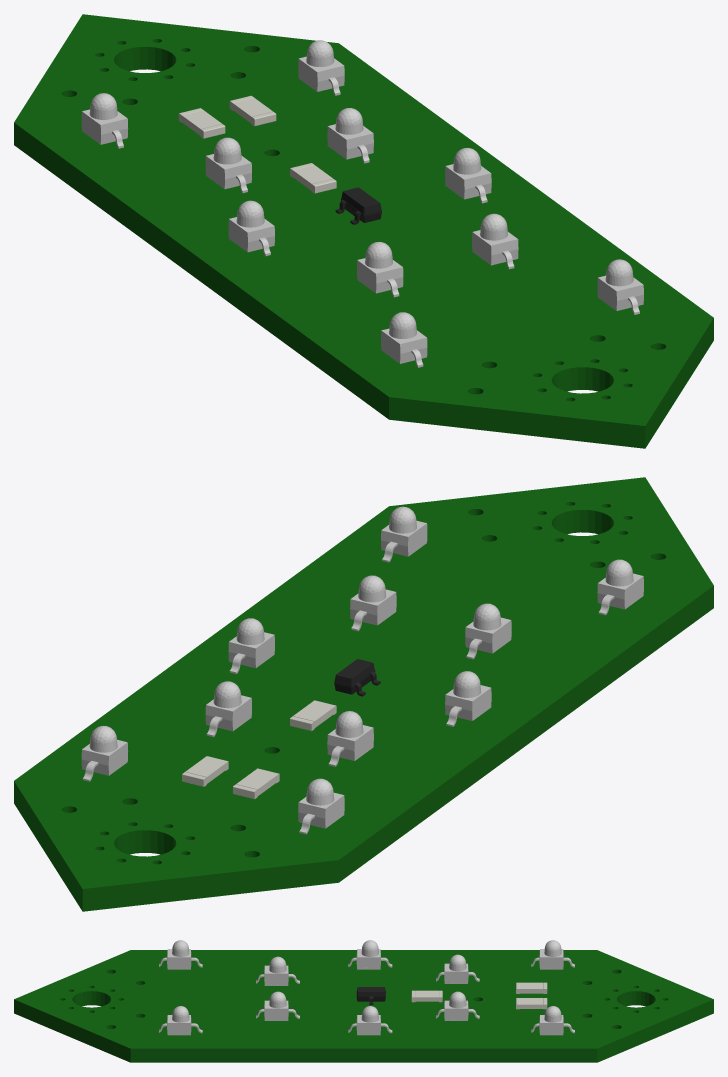
File: ForBlender.dae
The picture shows the model from 3 angles, top to bottom: view 1: azimuth 30°, elevation 25°; view 2: azimuth 150°, elevation 25°; view 3: azimuth 270°, elevation 25°; orthographic projection. The views are drawn at different scales.
Parts seen in each view (by area): view 1: node0, node13, node12, node4, node11, node10, node9, node5, node7, node8, node6, node14 (+3 smaller); view 2: node0, node10, node7, node8, node4, node11, node5, node6, node12, node9, node13, node14 (+3 smaller); view 3: node0, node13, node9, node11, node6, node8, node4, node10, node5, node12, node7, node14 (+3 smaller).
Boxes of the visible parts, x1,y1,x2,y2 form: node0: (14,14,713,448); node13: (298,40,344,95); node12: (327,108,373,163); node4: (381,312,427,367); node11: (445,148,491,203); node10: (472,213,518,269); node9: (597,259,643,314); node5: (357,241,403,297); node7: (205,137,251,193); node8: (81,93,128,148); node6: (228,200,274,256); node14: (335,187,381,224); node0: (14,477,713,911); node10: (350,575,396,631); node7: (327,711,373,766); node8: (298,778,344,834); node4: (597,559,643,615); node11: (228,618,274,673); node5: (465,603,511,659); node6: (445,671,491,726); node12: (205,681,251,736); node9: (381,506,427,562); node13: (81,725,128,781); node14: (334,659,380,696); node0: (14,950,713,1062); node13: (531,1006,574,1035); node9: (159,1006,202,1035); node11: (348,1006,392,1035); node6: (348,940,392,969); node8: (531,940,574,969); node4: (159,940,202,969); node10: (256,991,299,1020); node5: (256,956,299,985); node12: (436,991,479,1020); node7: (436,954,479,983); node14: (356,987,385,1004).
Size of the model in its own units: 0.024 by 0.072 by 0.0045.
